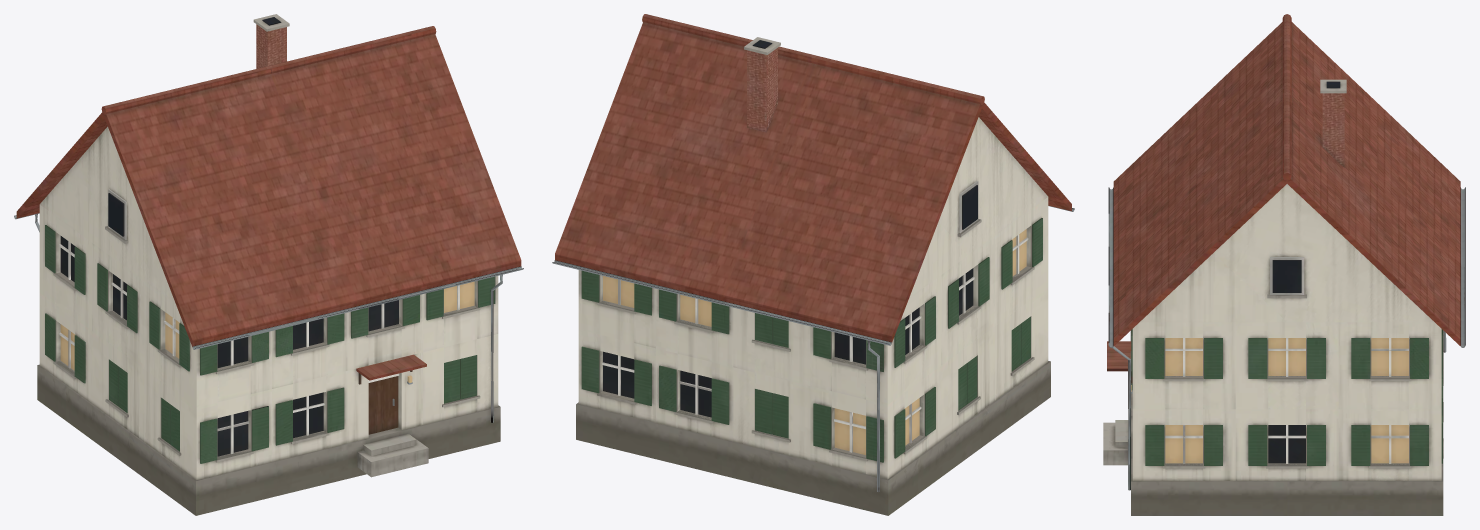
The model's file is village_house.glb.
3 renders of one model, left to right at view 1: azimuth 30°, elevation 25°; view 2: azimuth 150°, elevation 25°; view 3: azimuth 270°, elevation 25°, orthographic. The views are drawn at different scales.
Parts seen in each view (by area): view 1: village_house; view 2: village_house; view 3: village_house.
Part boxes in pixels (x1,y1,x2,y2): village_house: [14, 14, 523, 515]; village_house: [552, 14, 1074, 515]; village_house: [1103, 14, 1465, 515].
Size of the model in its own units: 10.94 by 11.91 by 10.54.
1 material, 1 textured.
